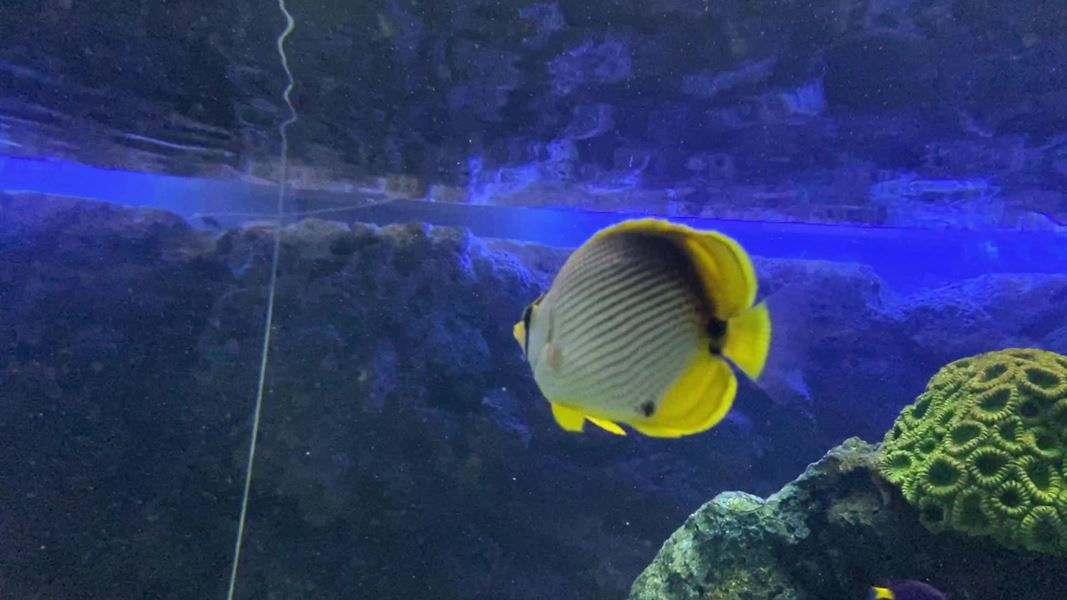Black-backed butterflyfish: (504, 210, 824, 454)
